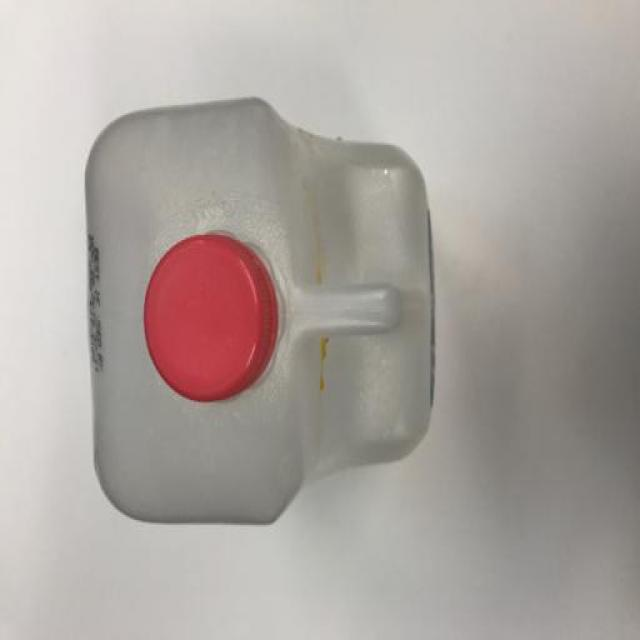plastic_bottle: (73, 64, 458, 530)
